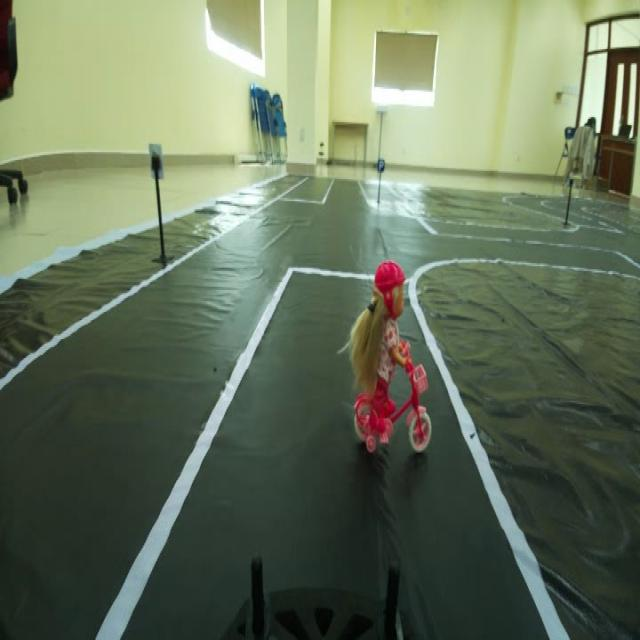pedestrian: (347, 264, 439, 460)
